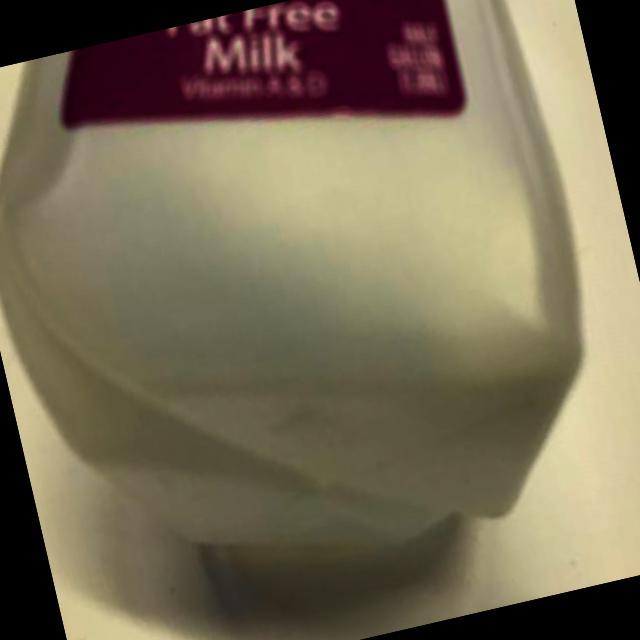HDPE Plastic: (1, 0, 592, 554)
